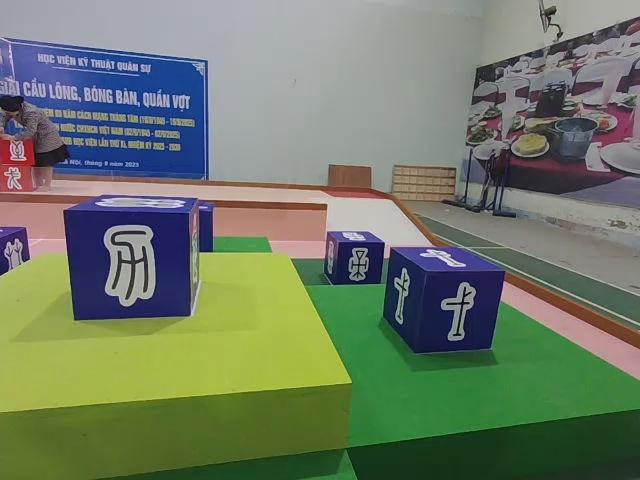R2 Fake Blue: (64, 197, 204, 325)
R2 Real Blue: (382, 245, 503, 356), (323, 232, 386, 287), (0, 227, 29, 290)
